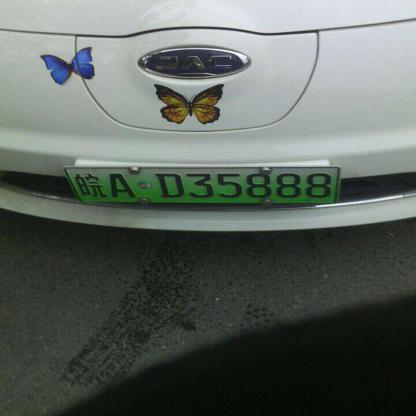lp: (64, 168, 338, 202)
